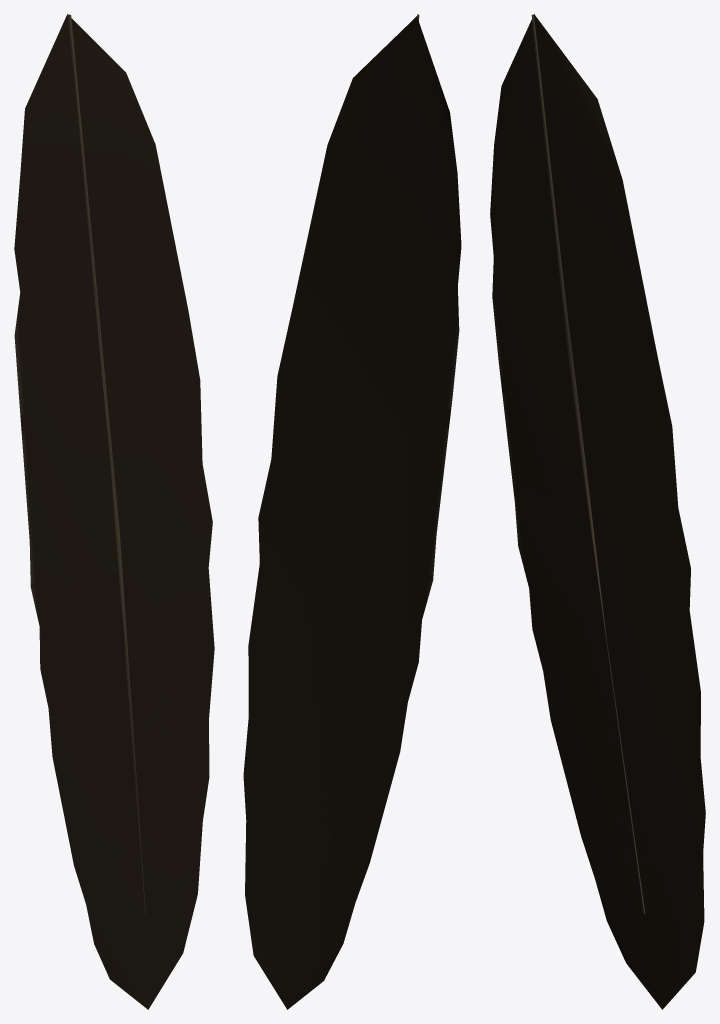
File: bird_rectrix_07.obj
3 renders of one model, left to right at view 1: azimuth 30°, elevation 25°; view 2: azimuth 150°, elevation 25°; view 3: azimuth 330°, elevation 25°, orthographic. The views are drawn at different scales.
Visible parts, largest first — view 1: PIECE_BIRD_RECTRIX_RIG_07; view 2: PIECE_BIRD_RECTRIX_RIG_07; view 3: PIECE_BIRD_RECTRIX_RIG_07.
Part boxes in pixels (x1,y1,x2,y2): PIECE_BIRD_RECTRIX_RIG_07: [14, 14, 214, 1009]; PIECE_BIRD_RECTRIX_RIG_07: [243, 14, 461, 1009]; PIECE_BIRD_RECTRIX_RIG_07: [490, 14, 705, 1009].
Bounding box in the file's own units: 0.0391 × 0.1846 × 0.00945.
Materials: 1 (1 with a texture image).
